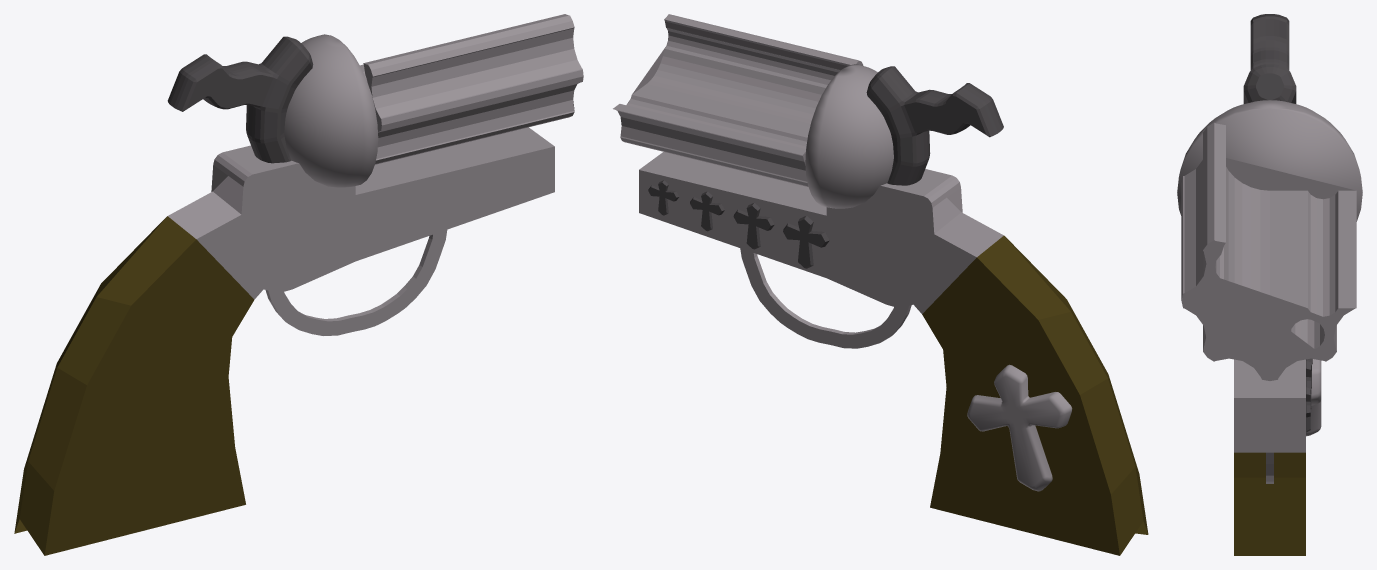
The model's file is WideWestPlunger.fbx.
3 views of the same model, side by side, from view 1: azimuth 30°, elevation 25°; view 2: azimuth 150°, elevation 25°; view 3: azimuth 270°, elevation 25° (orthographic). The views are drawn at different scales.
Parts seen in each view (by area): view 1: Revolver Handle, BulletCylinder, CuntIn2Spehere, Trigger; view 2: Revolver Handle, BulletCylinder, CuntIn2Spehere, Trigger; view 3: BulletCylinder, Revolver Handle, CuntIn2Spehere, Trigger.
Part boxes in pixels (bbox=[...]): Revolver Handle: bbox=[14, 127, 554, 555]; BulletCylinder: bbox=[360, 14, 583, 164]; CuntIn2Spehere: bbox=[284, 34, 378, 187]; Trigger: bbox=[167, 36, 313, 163]; Revolver Handle: bbox=[639, 152, 1148, 555]; BulletCylinder: bbox=[613, 14, 863, 186]; CuntIn2Spehere: bbox=[805, 64, 893, 208]; Trigger: bbox=[866, 66, 1003, 185]; BulletCylinder: bbox=[1181, 122, 1356, 380]; Revolver Handle: bbox=[1234, 358, 1321, 555]; CuntIn2Spehere: bbox=[1177, 100, 1362, 221]; Trigger: bbox=[1243, 14, 1296, 103].
Size of the model in its own units: 4930 by 3961 by 1260.
